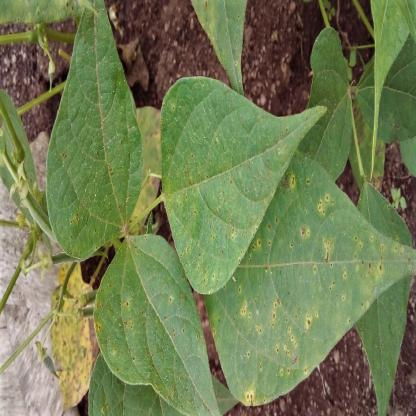Beans_Rust: (212, 158, 414, 400), (157, 75, 324, 277), (48, 0, 141, 263), (94, 235, 220, 413)
